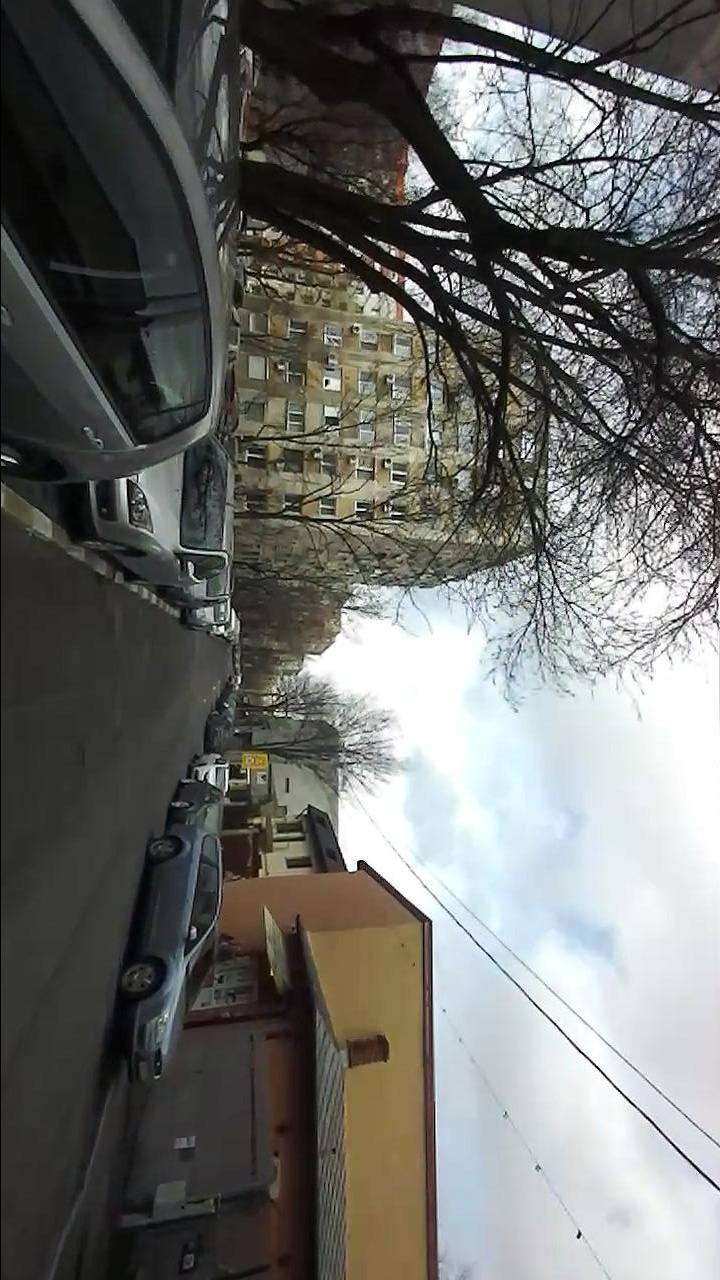pothole: (69, 739, 95, 775)
